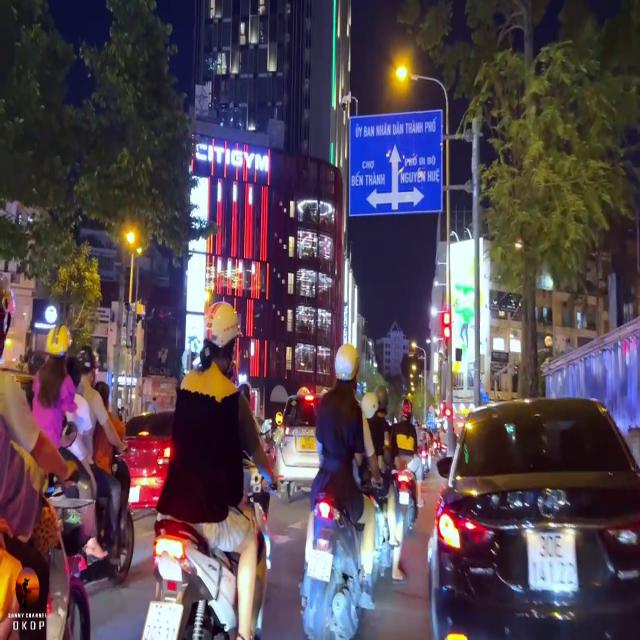bien_trang: (530, 532, 579, 594)
